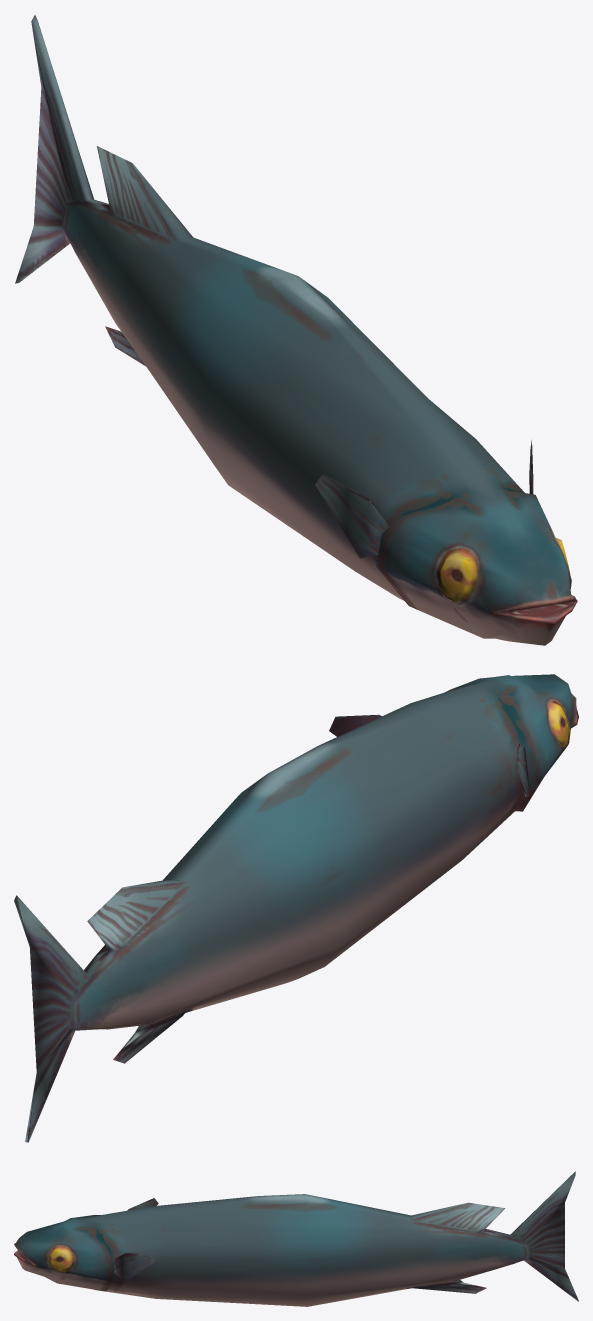
Rendered from Fish.fbx.
3 views of the same model, one above another, from view 1: azimuth 30°, elevation 25°; view 2: azimuth 150°, elevation 25°; view 3: azimuth 270°, elevation 25° (orthographic). The views are drawn at different scales.
Visible parts, largest first — view 1: FishRack_LOD0; view 2: FishRack_LOD0; view 3: FishRack_LOD0.
Part boxes in pixels (x1,y1,x2,y2): FishRack_LOD0: (15, 15, 577, 645); FishRack_LOD0: (14, 674, 578, 1142); FishRack_LOD0: (14, 1171, 578, 1306).
Bounding box in the file's own units: 157 × 203 × 727.
